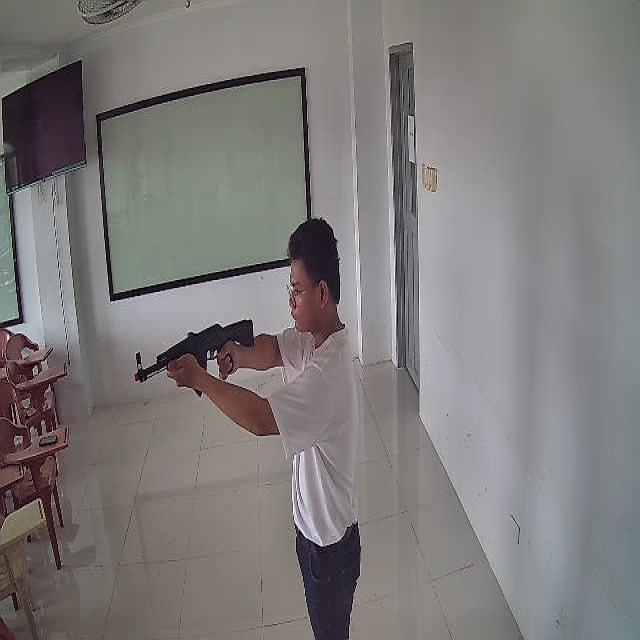rifle: (134, 320, 253, 397)
